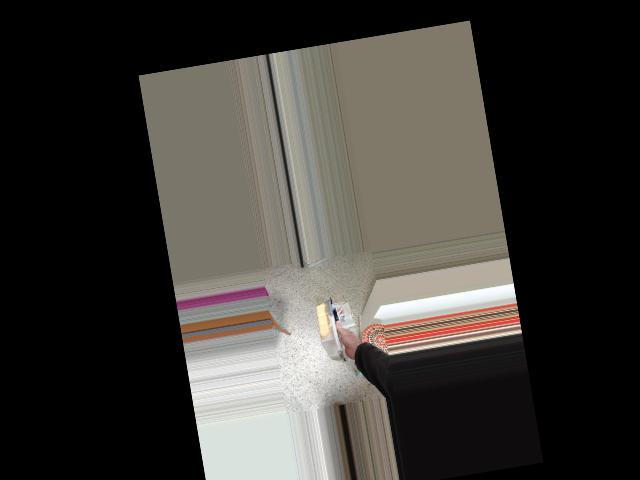cheese: (299, 298, 376, 377)
